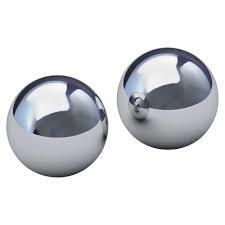steelball: (2, 65, 112, 185), (114, 39, 223, 154)
